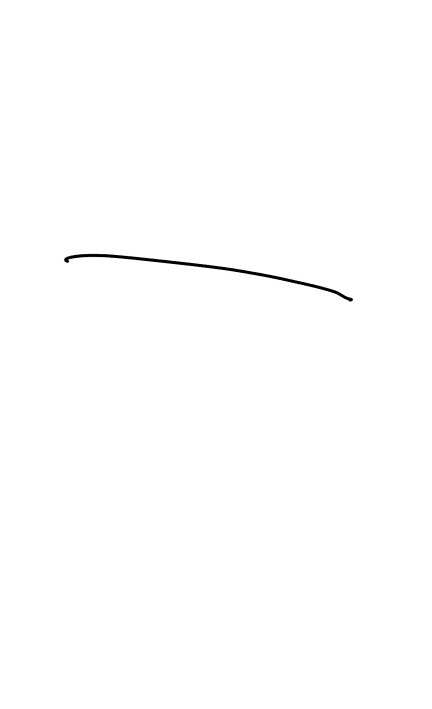Line: (61, 245, 359, 315)
